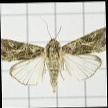Spodoptera litura: (1, 15, 107, 94)
